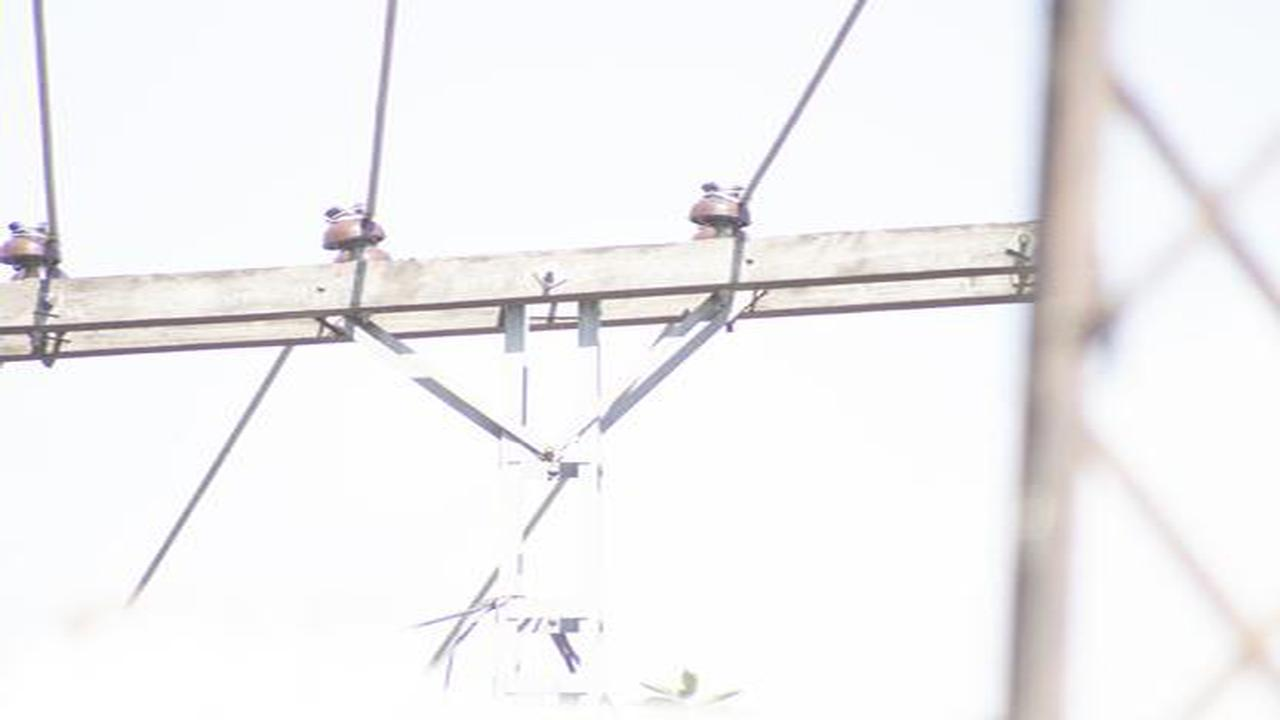insulator_pin: (686, 178, 755, 229), (323, 200, 386, 251), (2, 220, 61, 274)
